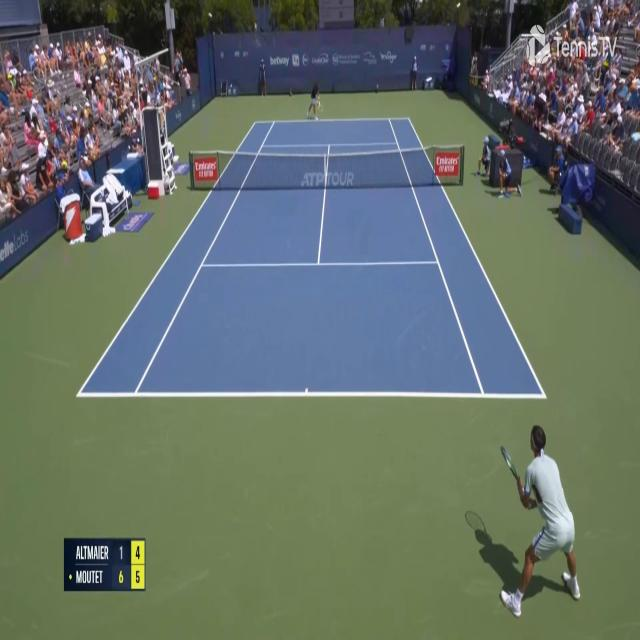tennis-player: (477, 419, 586, 618), (305, 79, 323, 122)
